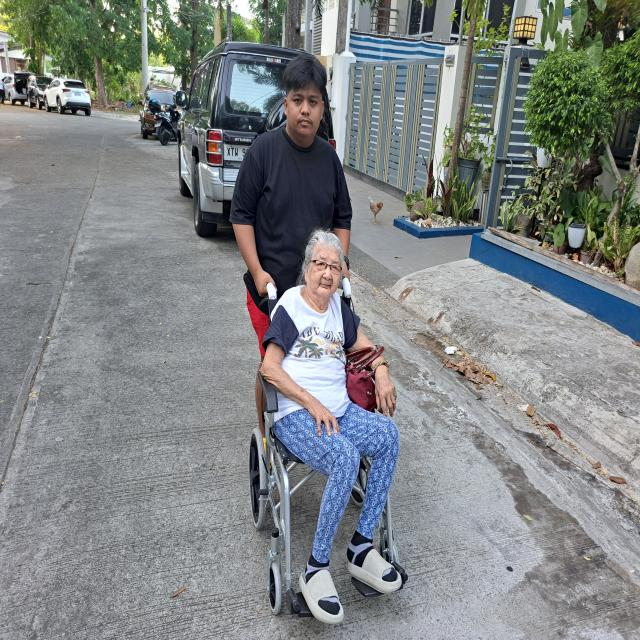wheelchairs: (246, 274, 411, 626)
